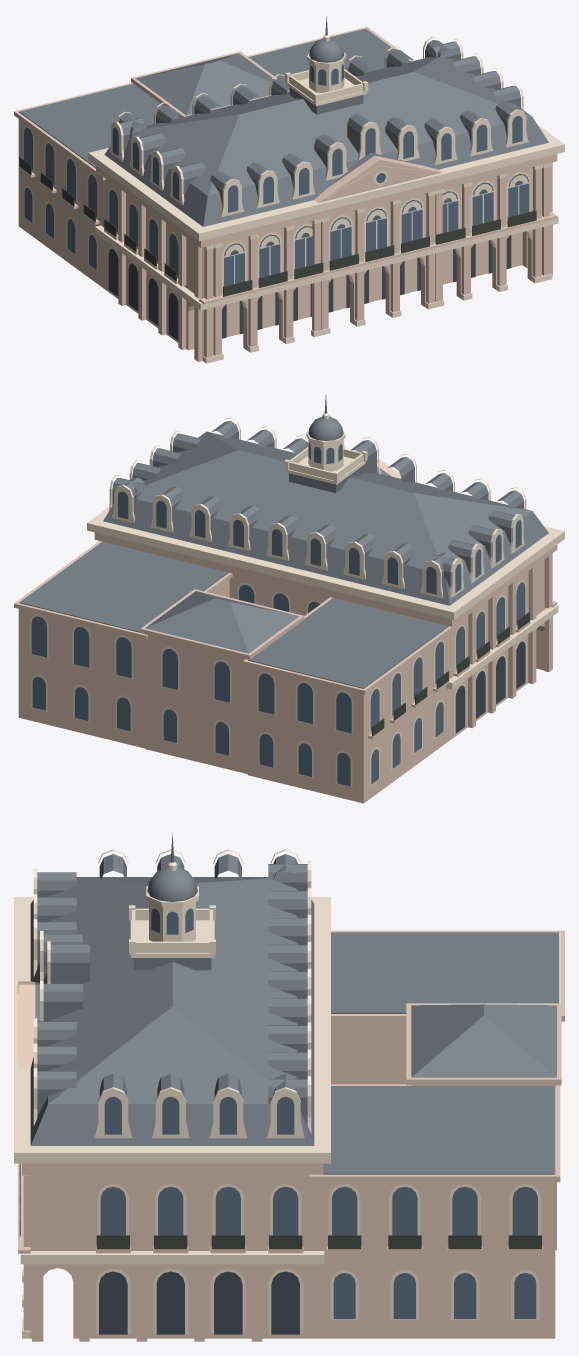
The model's file is nola-presbytere.glb.
The picture shows the model from 3 angles, top to bottom: view 1: azimuth 30°, elevation 25°; view 2: azimuth 150°, elevation 25°; view 3: azimuth 270°, elevation 25°; orthographic projection. The views are drawn at different scales.
Visible parts, largest first — view 1: The Presbytère; view 2: The Presbytère; view 3: The Presbytère.
Part boxes in pixels (x1,y1,x2,y2): The Presbytère: (14,16,564,363); The Presbytère: (14,395,564,803); The Presbytère: (14,833,564,1341).
Bounding box in the file's own units: 38.2 × 26.8 × 34.75.
